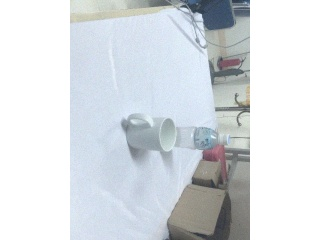bottle: (174, 126, 230, 150)
box: (168, 184, 231, 240)
cup: (125, 113, 177, 152)
